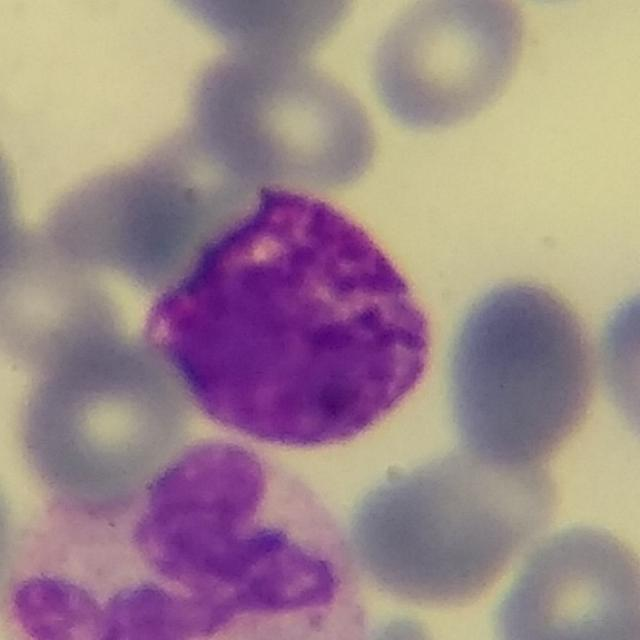Basophil: (134, 173, 456, 465)
Neutrophil: (0, 439, 373, 640)
RBC: (342, 444, 556, 612), (438, 270, 608, 476), (9, 341, 194, 508), (190, 52, 387, 194), (363, 0, 533, 136), (37, 154, 199, 282), (489, 517, 640, 640), (0, 245, 127, 374), (163, 0, 368, 43), (593, 276, 640, 454), (0, 146, 23, 291), (357, 611, 453, 640)
